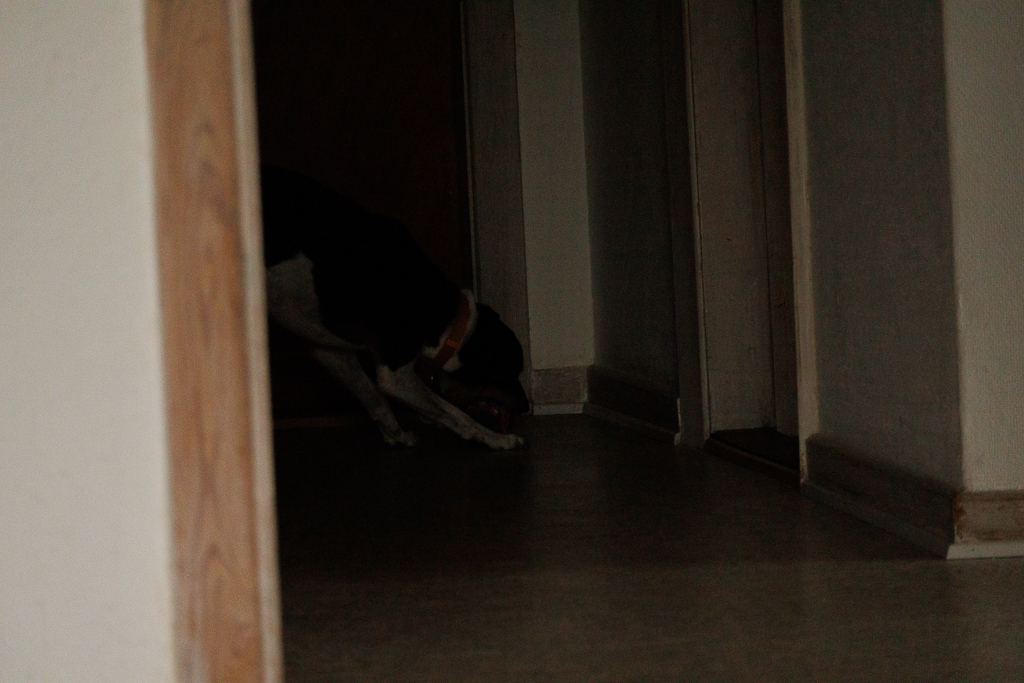Dog: (228, 201, 541, 462)
